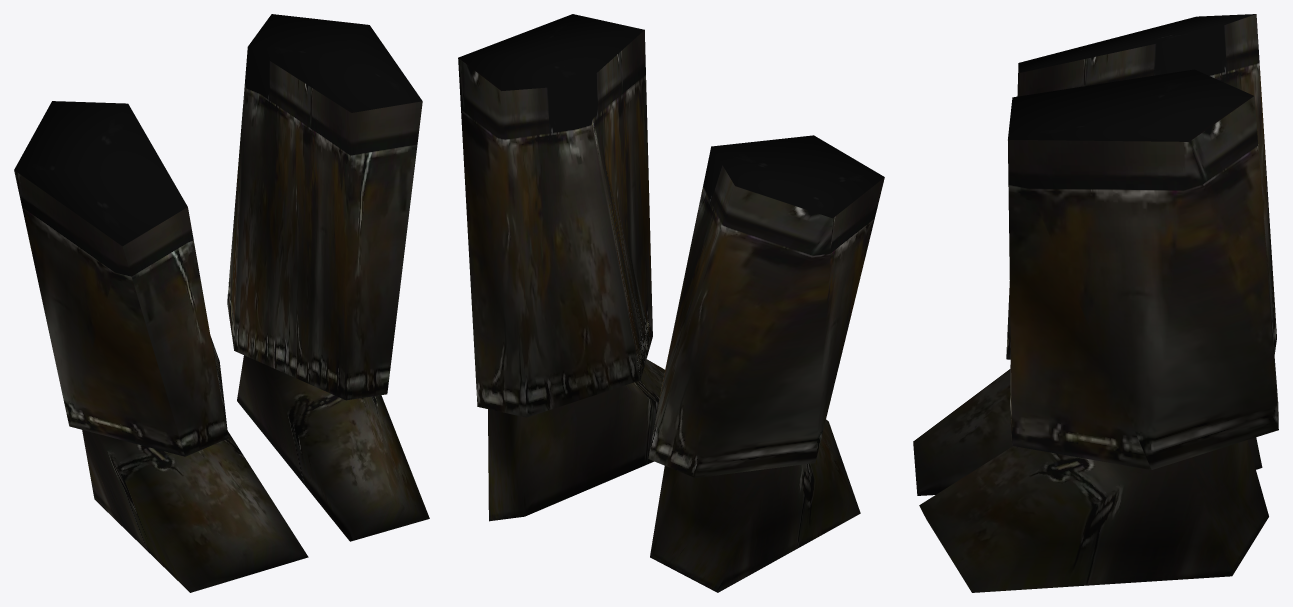
The model's file is ITMI_SOAKED_BOOTS.glb.
The picture shows the model from 3 angles, left to right: view 1: azimuth 30°, elevation 25°; view 2: azimuth 150°, elevation 25°; view 3: azimuth 270°, elevation 25°; orthographic projection. The views are drawn at different scales.
Visible parts, largest first — view 1: Mesh; view 2: Mesh; view 3: Mesh.
Part boxes in pixels (left/top/right/bottom): Mesh: left=14, top=14, right=429, bottom=592; Mesh: left=458, top=14, right=884, bottom=592; Mesh: left=913, top=14, right=1278, bottom=592.
Bounding box in the file's own units: 0.4121 × 0.4866 × 0.3267.
Materials: 1 (1 with a texture image).
